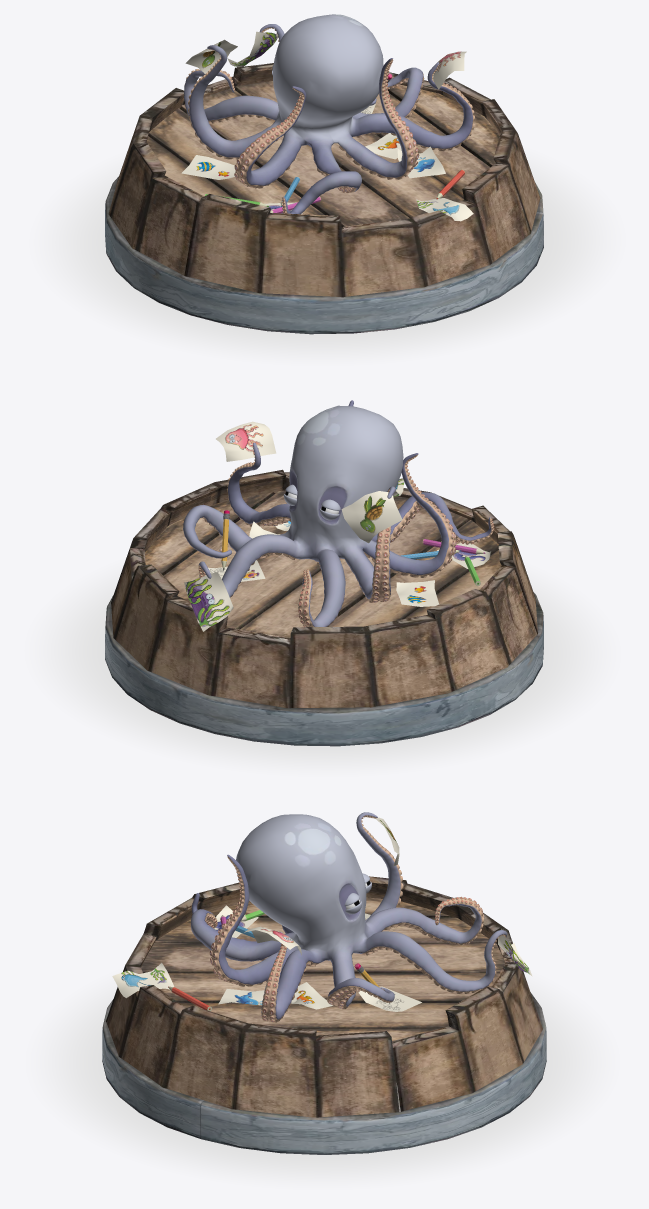
The model's file is illustration-transformed.glb.
3 views of the same model, one above another, from view 1: azimuth 30°, elevation 25°; view 2: azimuth 150°, elevation 25°; view 3: azimuth 270°, elevation 25° (orthographic).
Parts seen in each view (by area): view 1: Object_16, Object_4, Object_19, Object_7, Object_6, Object_3, Object_15, Object_12, Object_2, Object_13, Object_9, Object_10 (+2 smaller); view 2: Object_16, Object_4, Object_19, Object_6, Object_7, Object_3, Object_10, Object_14, Object_9, Object_15, Object_2; view 3: Object_16, Object_4, Object_19, Object_6, Object_7, Object_3, Object_12, Object_2, Object_11, Object_5, Object_13, Object_9.
Part boxes in pixels (left/top/right/bottom): Object_16: left=108, top=63, right=540, bottom=297; Object_4: left=41, top=154, right=613, bottom=360; Object_19: left=184, top=14, right=472, bottom=214; Object_7: left=146, top=81, right=499, bottom=226; Object_6: left=105, top=176, right=543, bottom=334; Object_3: left=184, top=27, right=474, bottom=213; Object_15: left=181, top=155, right=235, bottom=179; Object_12: left=416, top=198, right=473, bottom=221; Object_2: left=224, top=61, right=461, bottom=213; Object_13: left=397, top=146, right=445, bottom=178; Object_9: left=433, top=51, right=466, bottom=89; Object_10: left=185, top=39, right=237, bottom=80; Object_16: left=111, top=469, right=537, bottom=708; Object_4: left=37, top=566, right=608, bottom=771; Object_19: left=183, top=400, right=491, bottom=626; Object_6: left=105, top=592, right=543, bottom=746; Object_7: left=145, top=490, right=501, bottom=637; Object_3: left=195, top=448, right=493, bottom=626; Object_10: left=341, top=491, right=402, bottom=543; Object_14: left=184, top=572, right=233, bottom=631; Object_9: left=216, top=421, right=276, bottom=461; Object_15: left=396, top=580, right=439, bottom=606; Object_2: left=199, top=462, right=494, bottom=627; Object_16: left=106, top=876, right=542, bottom=1117; Object_4: left=38, top=976, right=607, bottom=1184; Object_19: left=190, top=812, right=507, bottom=1019; Object_6: left=102, top=992, right=546, bottom=1154; Object_7: left=141, top=897, right=504, bottom=1040; Object_3: left=205, top=815, right=506, bottom=1022; Object_12: left=112, top=963, right=174, bottom=998; Object_2: left=205, top=872, right=482, bottom=1021; Object_11: left=358, top=986, right=421, bottom=1011; Object_5: left=291, top=982, right=332, bottom=1009; Object_13: left=218, top=989, right=264, bottom=1005; Object_9: left=244, top=926, right=301, bottom=955.
Bounding box in the file's own units: 177 × 73.17 × 174.
Materials: 23 (21 with a texture image).
